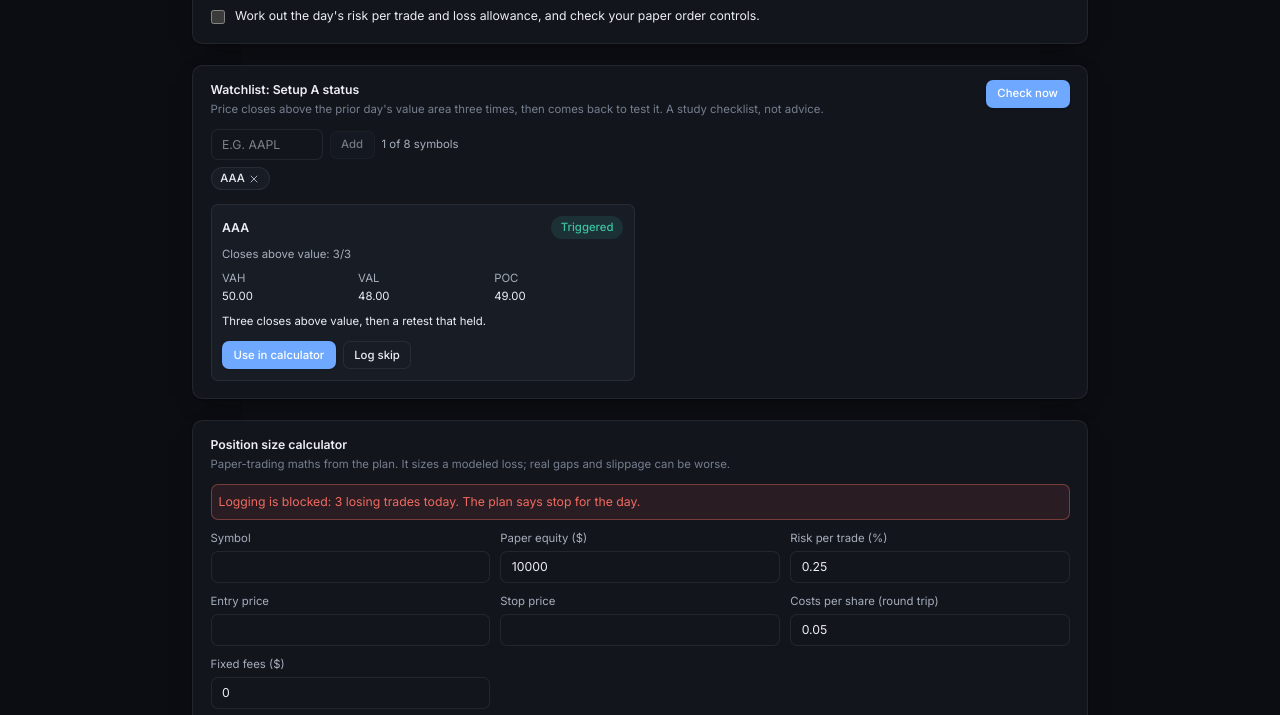
Test: Today's Plan page › blocks Log trade after three losses
(page scrolled)
Click the button "Use in calculator". click: (279, 356)
box: [222,342,336,370]
(page scrolled)
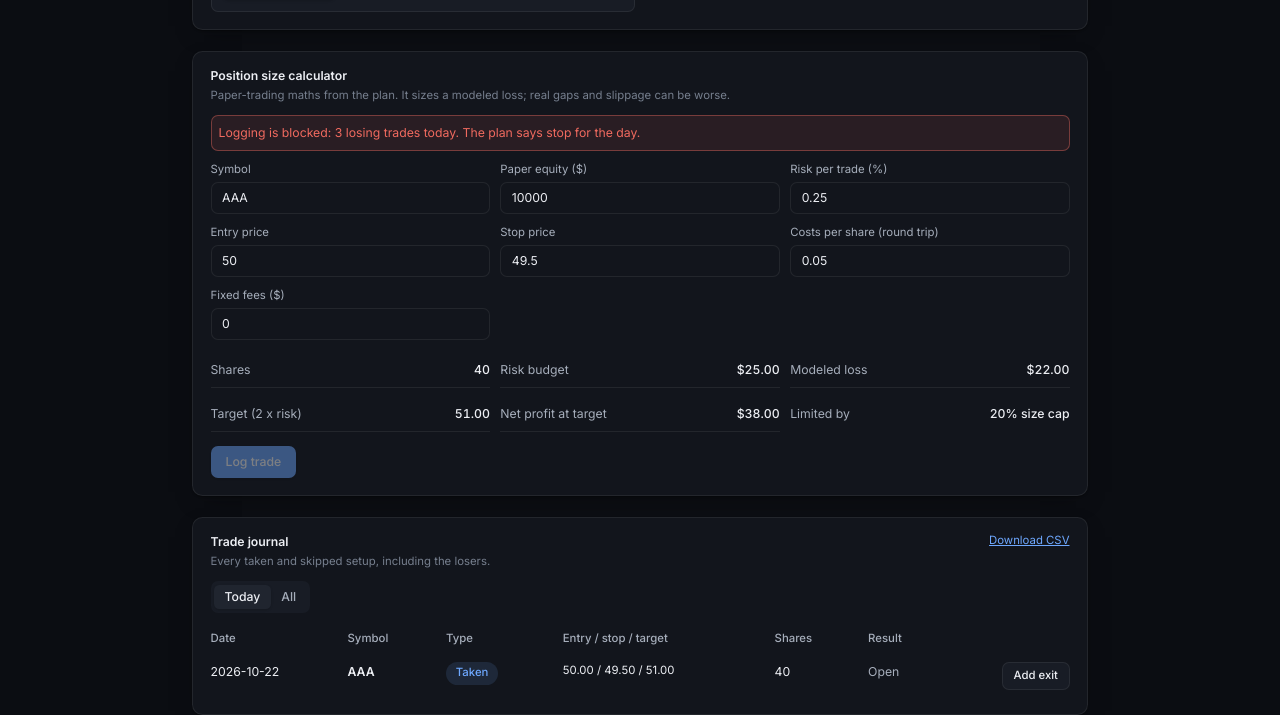
Expected: the button "Log trade" is disabled, [210,446,296,478]
Expected: the text "40" is shown, [474,362,490,377]
